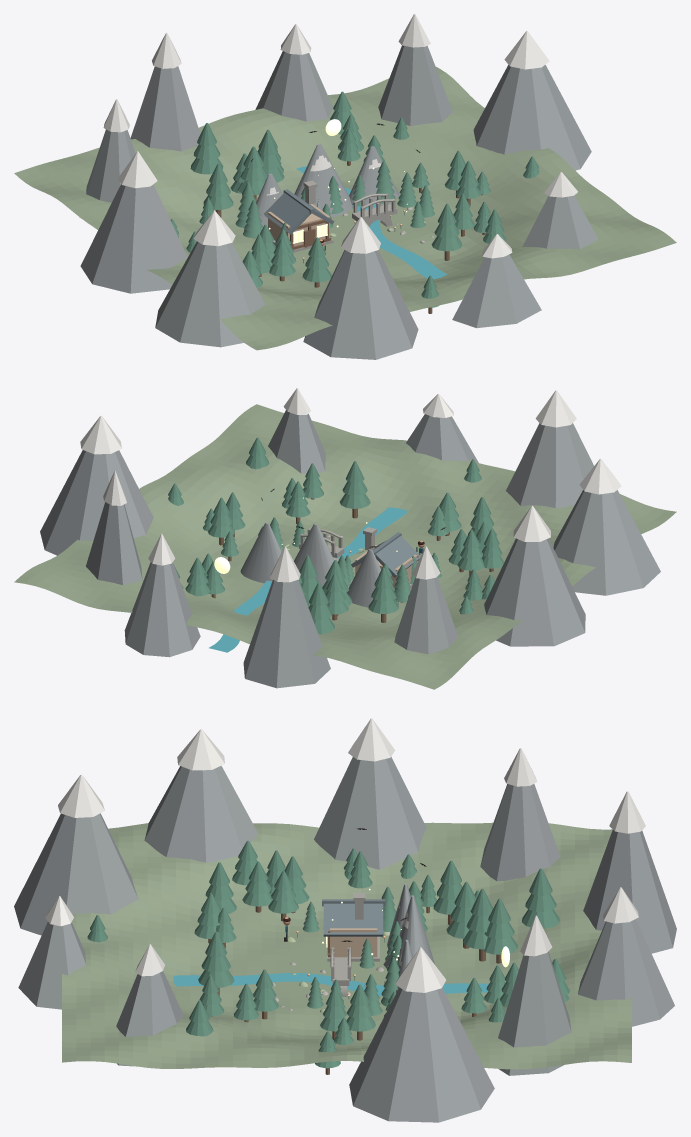
The model's file is pagescape-explorable-world.glb.
3 renders of one model, top to bottom at view 1: azimuth 30°, elevation 25°; view 2: azimuth 150°, elevation 25°; view 3: azimuth 270°, elevation 25°, orthographic. The views are drawn at different scales.
Visible parts, largest first — view 1: Terrain_Outer_Visual, Mountain_Ring_08, Mountain_Ring_06, Mountain_Ring_07, Mountain_Ring_01, Mountain_Ring_02, Mountain_Ring_09, Mountain_Ring_04, Mountain_Ring_03, Mountain_Ring_10, Mountain_Ring_05, Mountain_Back_Centre (+23 smaller); view 2: Terrain_Outer_Visual, Mountain_Ring_06, Mountain_Ring_07, Mountain_Ring_04, Mountain_Ring_01, Mountain_Ring_08, Mountain_Ring_03, Mountain_Ring_05, Mountain_Ring_02, Mountain_Ring_10, Mountain_Ring_09, River_Extended (+27 smaller); view 3: Terrain_Outer_Visual, Mountain_Ring_01, Mountain_Ring_08, Mountain_Ring_06, Mountain_Ring_07, Mountain_Ring_04, Mountain_Ring_03, Mountain_Ring_05, Mountain_Ring_02, Mountain_Ring_09, Mountain_Ring_10, Cottage_Roof_Right (+28 smaller).
Part boxes in pixels (x1,y1,x2,y2): Terrain_Outer_Visual: (14,67,676,350); Mountain_Ring_08: (303,250,418,359); Mountain_Ring_06: (80,184,187,293); Mountain_Ring_07: (155,241,264,347); Mountain_Ring_01: (473,65,591,170); Mountain_Ring_02: (378,45,452,125); Mountain_Ring_09: (452,254,541,328); Mountain_Ring_04: (130,66,200,151); Mountain_Ring_03: (255,51,333,121); Mountain_Ring_10: (522,195,597,248); Mountain_Ring_05: (79,129,135,217); Mountain_Back_Centre: (294,144,352,217); Terrain_Outer_Visual: (14,404,676,689); Mountain_Ring_06: (484,538,585,646); Mountain_Ring_07: (553,490,660,595); Mountain_Ring_04: (243,580,330,688); Mountain_Ring_01: (40,450,153,555); Mountain_Ring_08: (506,423,593,508); Mountain_Ring_03: (124,562,200,657); Mountain_Ring_05: (394,576,457,653); Mountain_Ring_02: (86,502,142,584); Mountain_Ring_10: (268,410,325,473); Mountain_Ring_09: (406,414,478,462); River_Extended: (209,507,408,652); Terrain_Outer_Visual: (62,822,631,1069); Mountain_Ring_01: (349,987,494,1122); Mountain_Ring_08: (14,813,138,935); Mountain_Ring_06: (314,757,426,869); Mountain_Ring_07: (144,765,258,862); Mountain_Ring_04: (583,829,676,953); Mountain_Ring_03: (578,919,674,1026); Mountain_Ring_05: (480,784,560,881); Mountain_Ring_02: (498,951,571,1075); Mountain_Ring_09: (18,922,86,1009); Mountain_Ring_10: (116,971,183,1066); Cottage_Roof_Right: (323,903,383,936).
Bounding box in the file's own units: 63.45 × 17.99 × 60.49.
